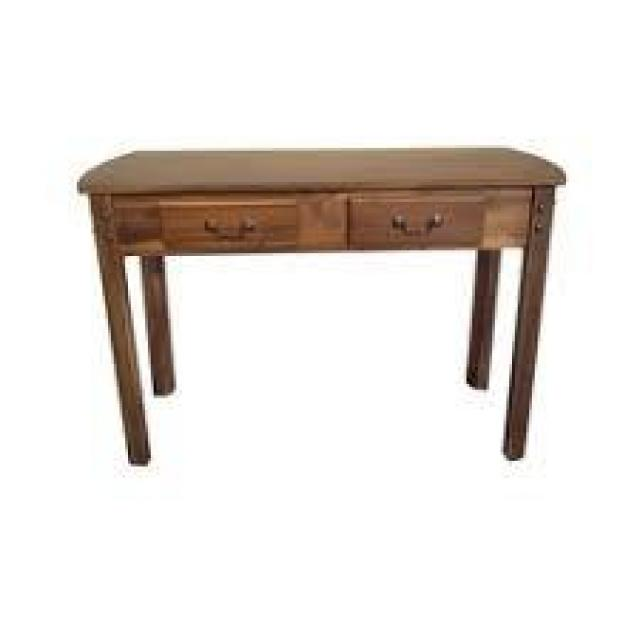table: (44, 93, 590, 519)
